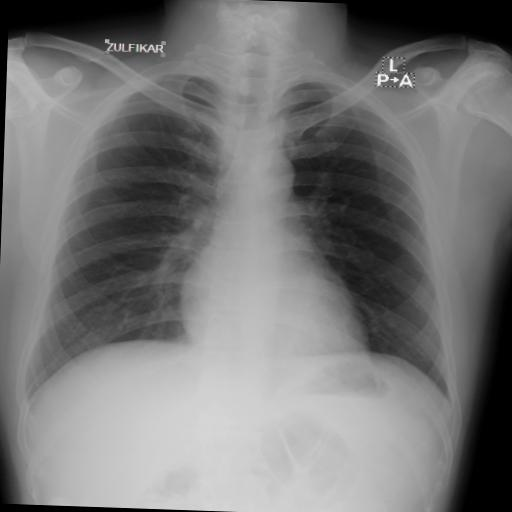normal: (14, 42, 476, 420)
